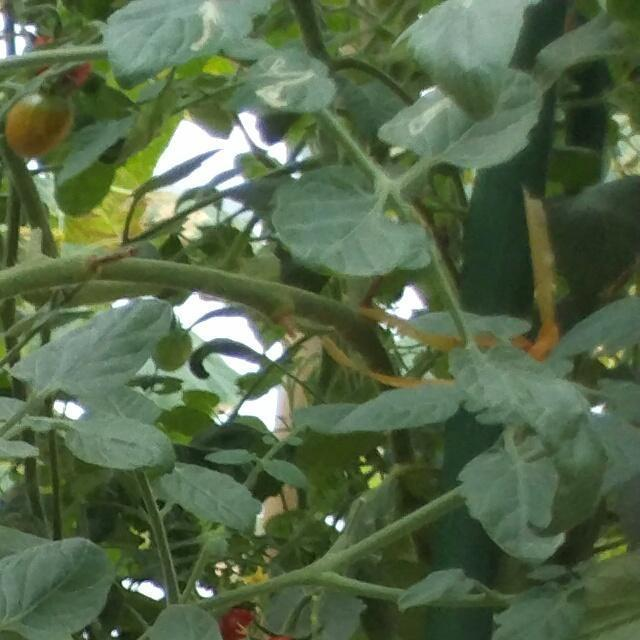Tomato target spot leaf: (376, 68, 544, 170), (105, 0, 269, 90), (217, 48, 335, 114)
